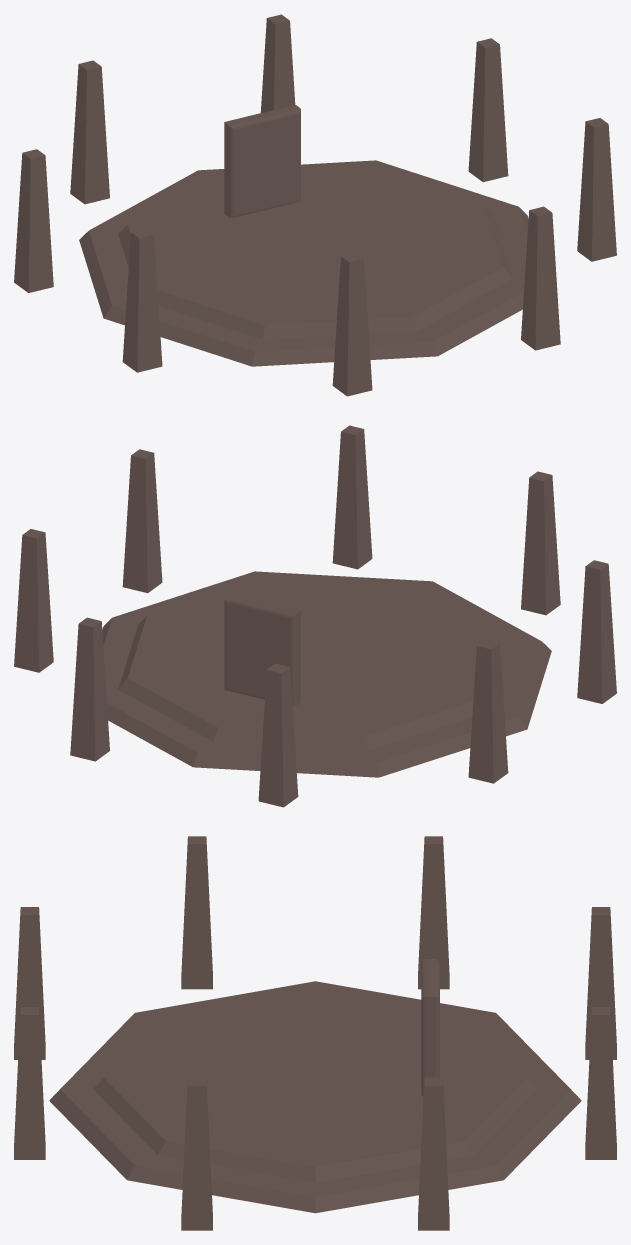
File: raidAltar.ol.glb
3 renders of one model, top to bottom at view 1: azimuth 30°, elevation 25°; view 2: azimuth 150°, elevation 25°; view 3: azimuth 270°, elevation 25°, orthographic. The views are drawn at different scales.
Bounding box in the file's own units: 16.77 × 4.37 × 16.77.
